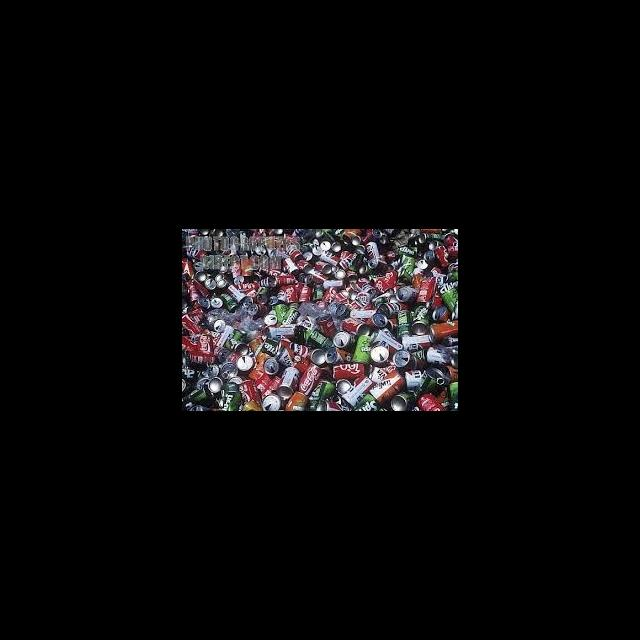metal: (365, 364, 409, 403), (309, 308, 344, 343), (274, 343, 311, 374), (269, 363, 299, 399), (349, 328, 377, 365), (296, 360, 323, 398), (406, 298, 433, 336), (358, 253, 395, 277), (329, 357, 367, 380), (434, 273, 457, 310), (389, 343, 416, 370), (213, 287, 239, 314), (386, 389, 418, 410), (366, 307, 389, 331), (202, 372, 227, 394), (361, 237, 383, 260), (331, 375, 353, 397), (207, 314, 228, 337), (217, 359, 240, 379), (306, 345, 330, 364), (366, 343, 391, 361), (228, 339, 251, 358), (310, 258, 334, 274), (233, 351, 254, 369), (260, 311, 280, 326), (191, 267, 207, 282)
